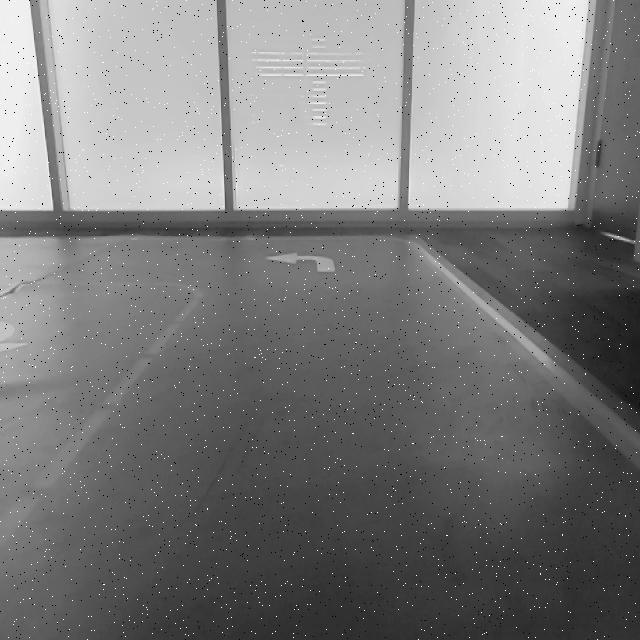left_lane: (1, 296, 198, 548)
right_lane: (410, 246, 640, 467)
